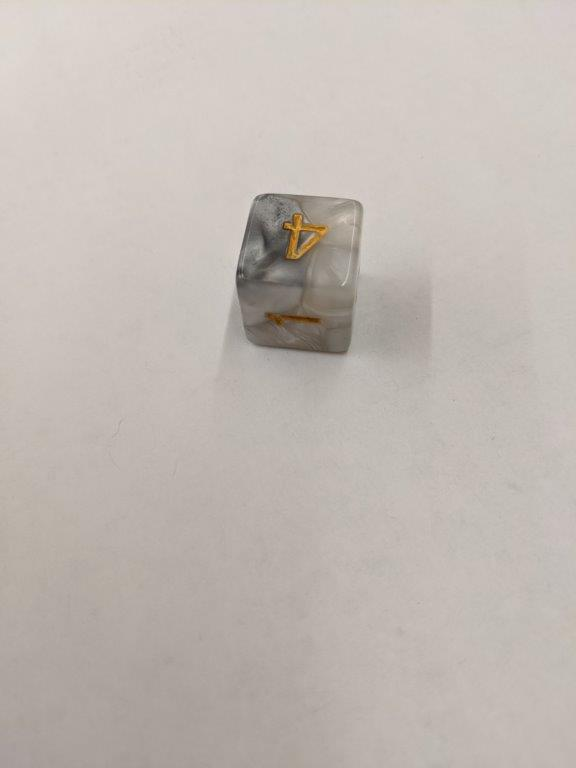d6-4: (234, 192, 364, 353)
